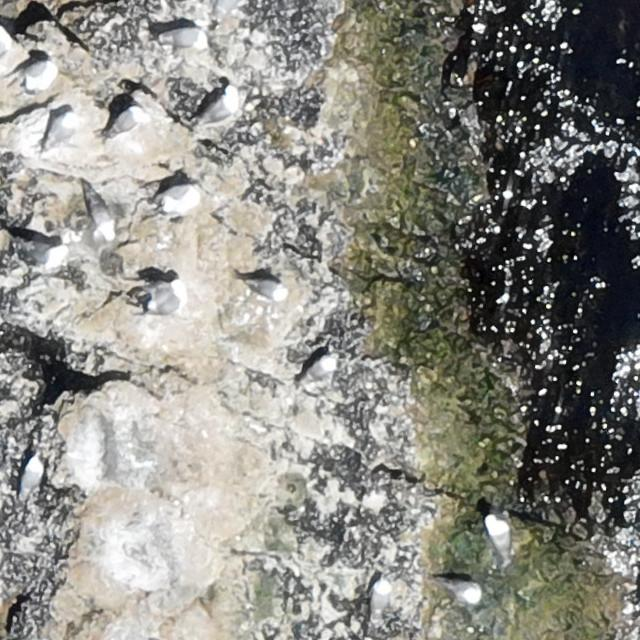umineko: (190, 85, 240, 130), (82, 184, 118, 243), (137, 276, 183, 313), (22, 236, 69, 269), (11, 454, 39, 504), (436, 573, 482, 603), (153, 180, 194, 213), (482, 515, 510, 563), (42, 112, 78, 147), (23, 57, 58, 92), (150, 28, 206, 45), (362, 584, 391, 615), (303, 355, 337, 381), (254, 282, 285, 300), (114, 111, 138, 132)
